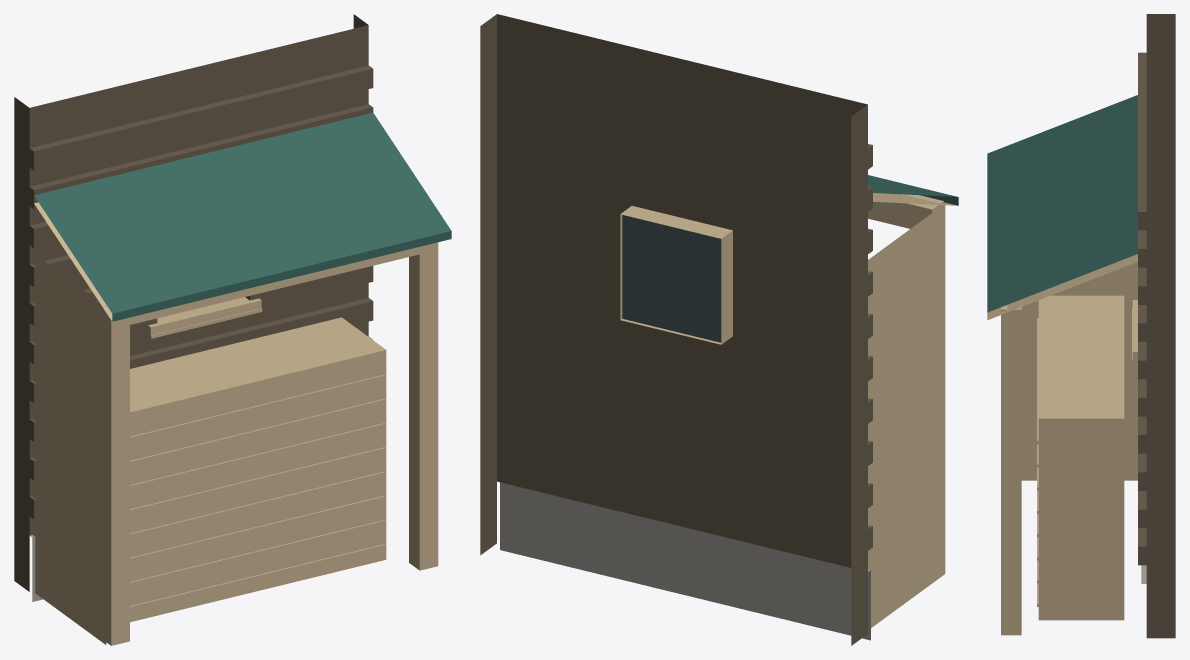
File: base-stair3_close.fbx
3 renders of one model, left to right at view 1: azimuth 30°, elevation 25°; view 2: azimuth 150°, elevation 25°; view 3: azimuth 270°, elevation 25°, orthographic. The views are drawn at different scales.
Visible parts, largest first — view 1: a2015/400/base-stair_close; view 2: a2015/400/base-stair_close; view 3: a2015/400/base-stair_close.
Boxes of the visible parts, x1,y1,x2,y2 form: a2015/400/base-stair_close: [14, 14, 451, 645]; a2015/400/base-stair_close: [480, 14, 958, 645]; a2015/400/base-stair_close: [987, 14, 1175, 638].
Size of the model in its own units: 2.2 by 3.05 by 1.1.
